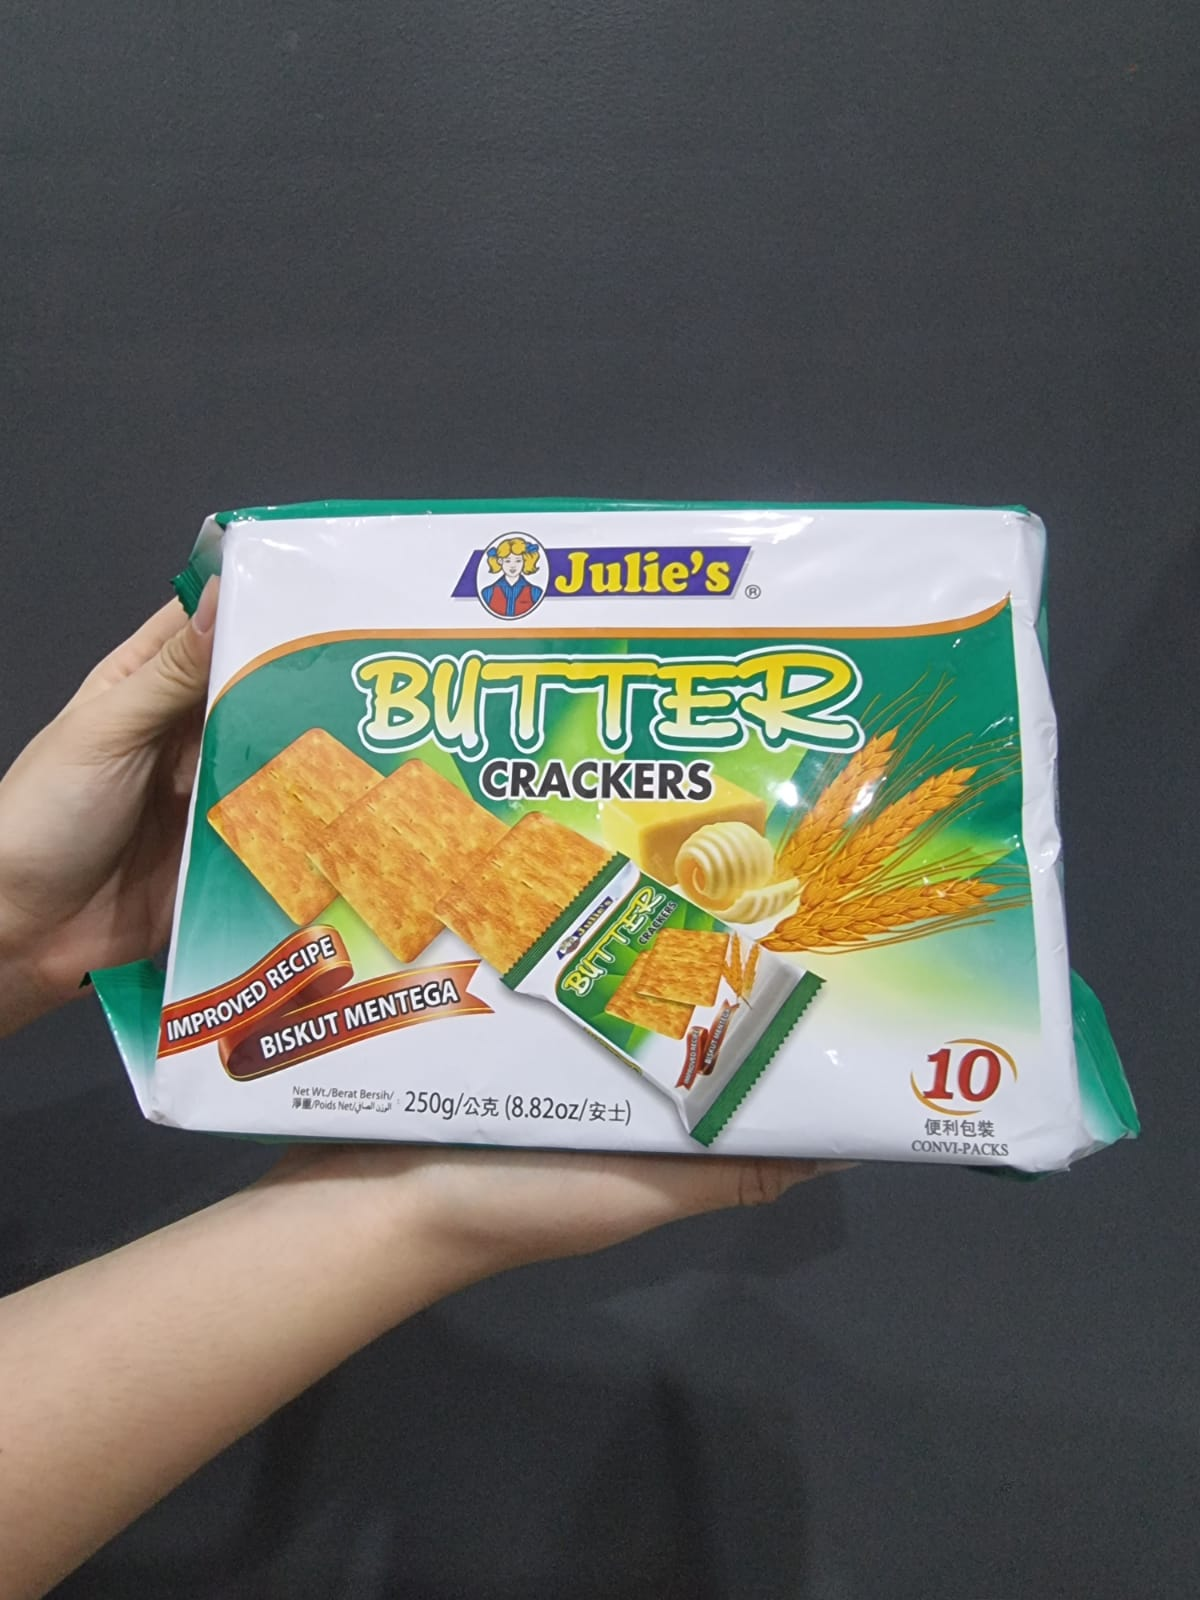Biscuits: (231, 546, 1035, 1154)
